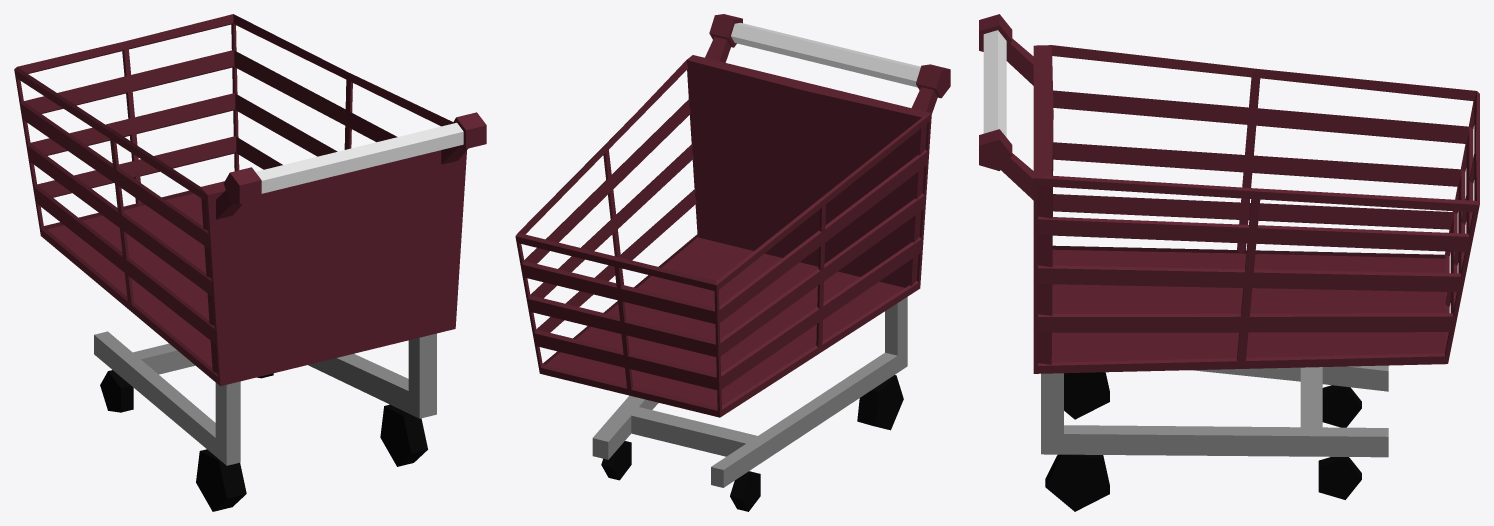
Rendered from carrito0.fbx.
The picture shows the model from 3 angles, left to right: view 1: azimuth 30°, elevation 25°; view 2: azimuth 150°, elevation 25°; view 3: azimuth 270°, elevation 25°; orthographic projection. The views are drawn at different scales.
Visible parts, largest first — view 1: Carro original; view 2: Carro original; view 3: Carro original.
Part boxes in pixels (box(x1,y1,x2,y2)): Carro original: box(14, 14, 486, 511); Carro original: box(515, 14, 950, 511); Carro original: box(979, 14, 1479, 511).
Bounding box in the file's own units: 0.6828 × 0.928 × 1.09.
